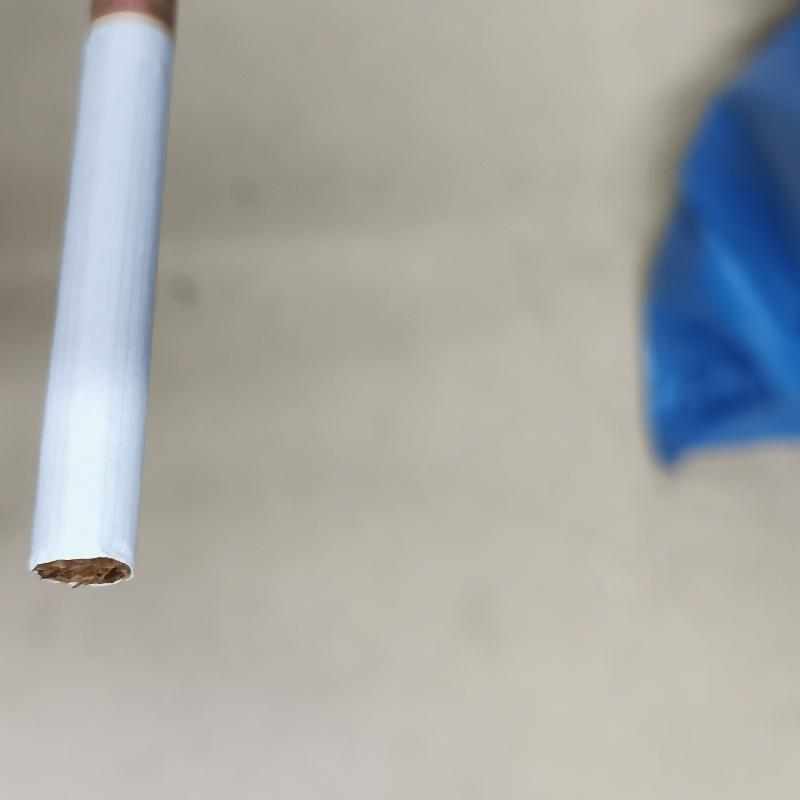cigarette: (27, 0, 177, 587)
